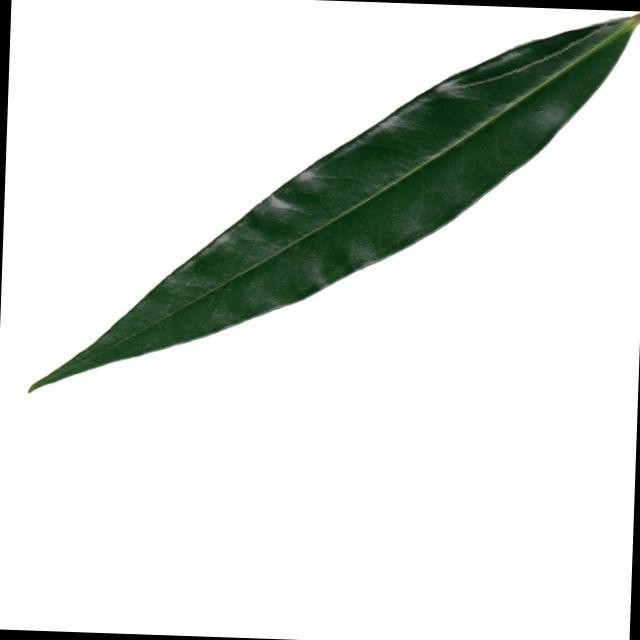Medicinal-Rose Apple: (27, 0, 640, 410)
